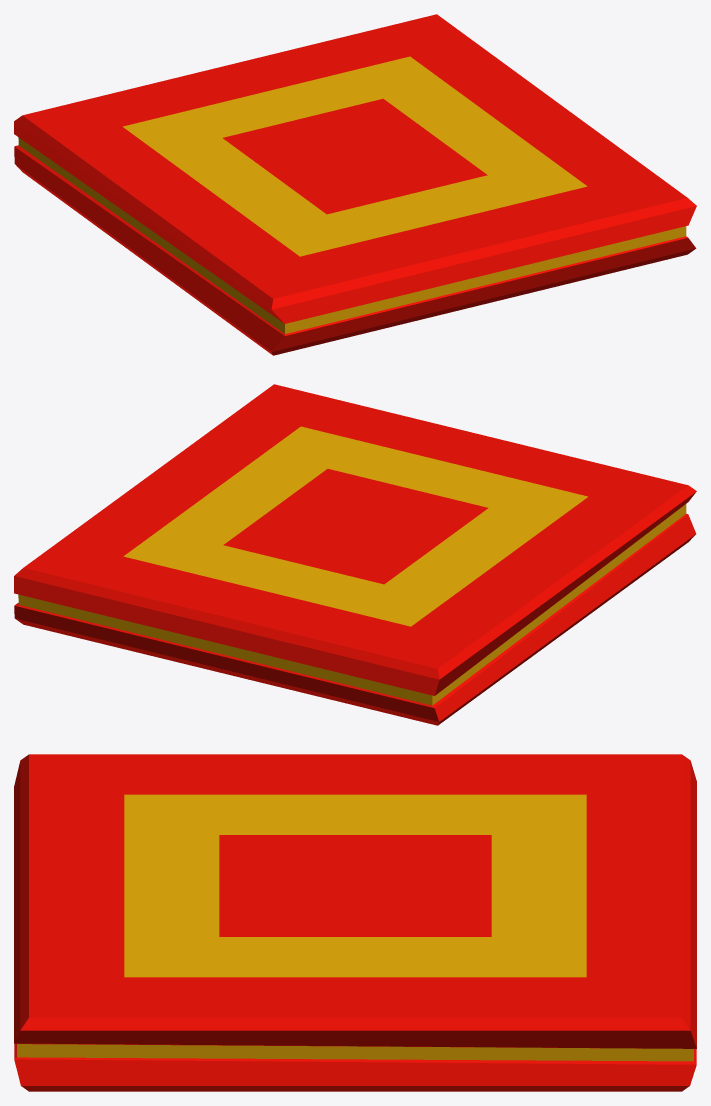
File: LaunchLand Pad.fbx
The picture shows the model from 3 angles, top to bottom: view 1: azimuth 30°, elevation 25°; view 2: azimuth 150°, elevation 25°; view 3: azimuth 270°, elevation 25°; orthographic projection. The views are drawn at different scales.
Visible parts, largest first — view 1: Launch/Land Pad; view 2: Launch/Land Pad; view 3: Launch/Land Pad.
Part boxes in pixels (box(x1,y1,x2,y2)): Launch/Land Pad: box(14, 14, 696, 355); Launch/Land Pad: box(14, 384, 696, 725); Launch/Land Pad: box(14, 754, 696, 1091).
Bounding box in the file's own units: 470 × 60 × 502.
